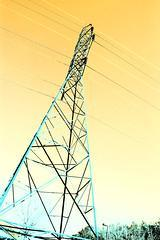power_tower: (0, 19, 106, 240)
